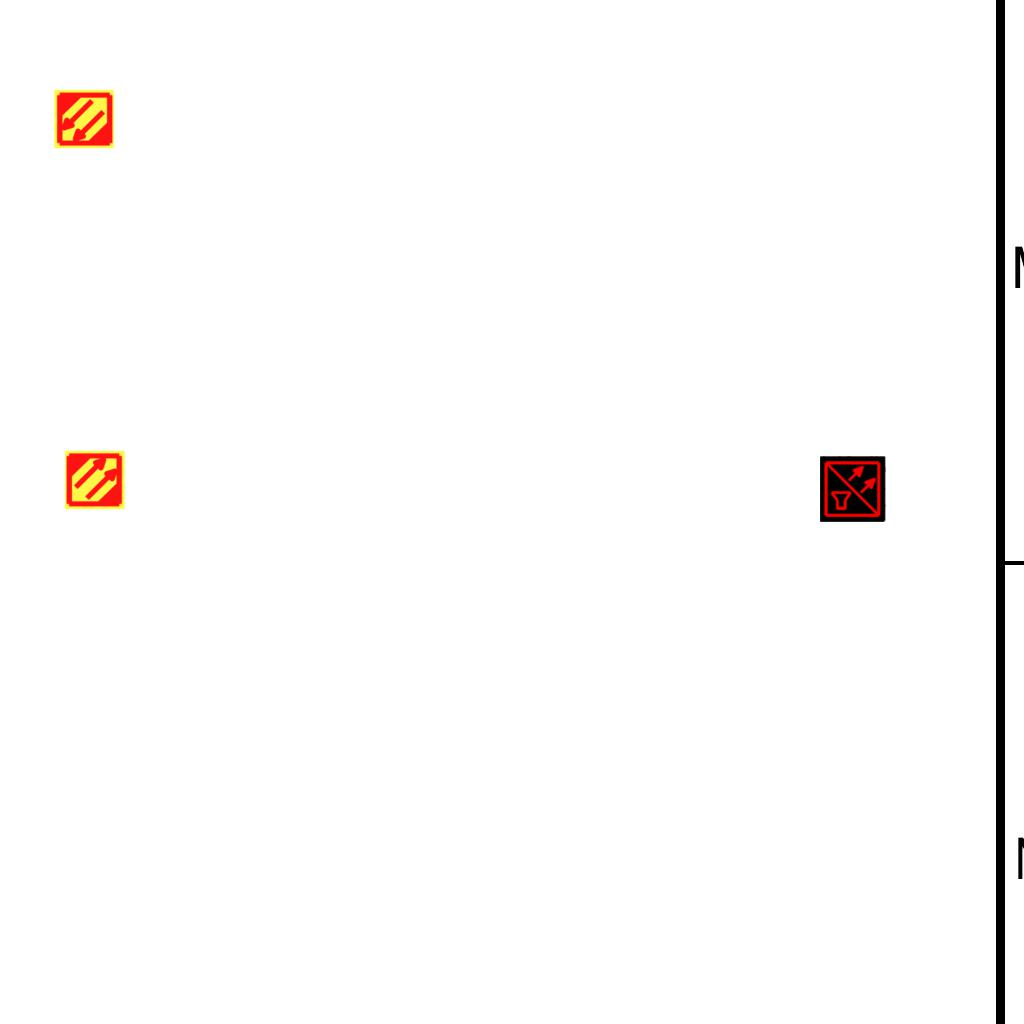ASR_Ansaugrauchmelder: (53, 88, 115, 150), (64, 449, 126, 511)
OKW_Multisensormelder_(Kombination_optischer_Rauch-Kahlenmonoxid_Waerme-Melder): (820, 456, 886, 522)
